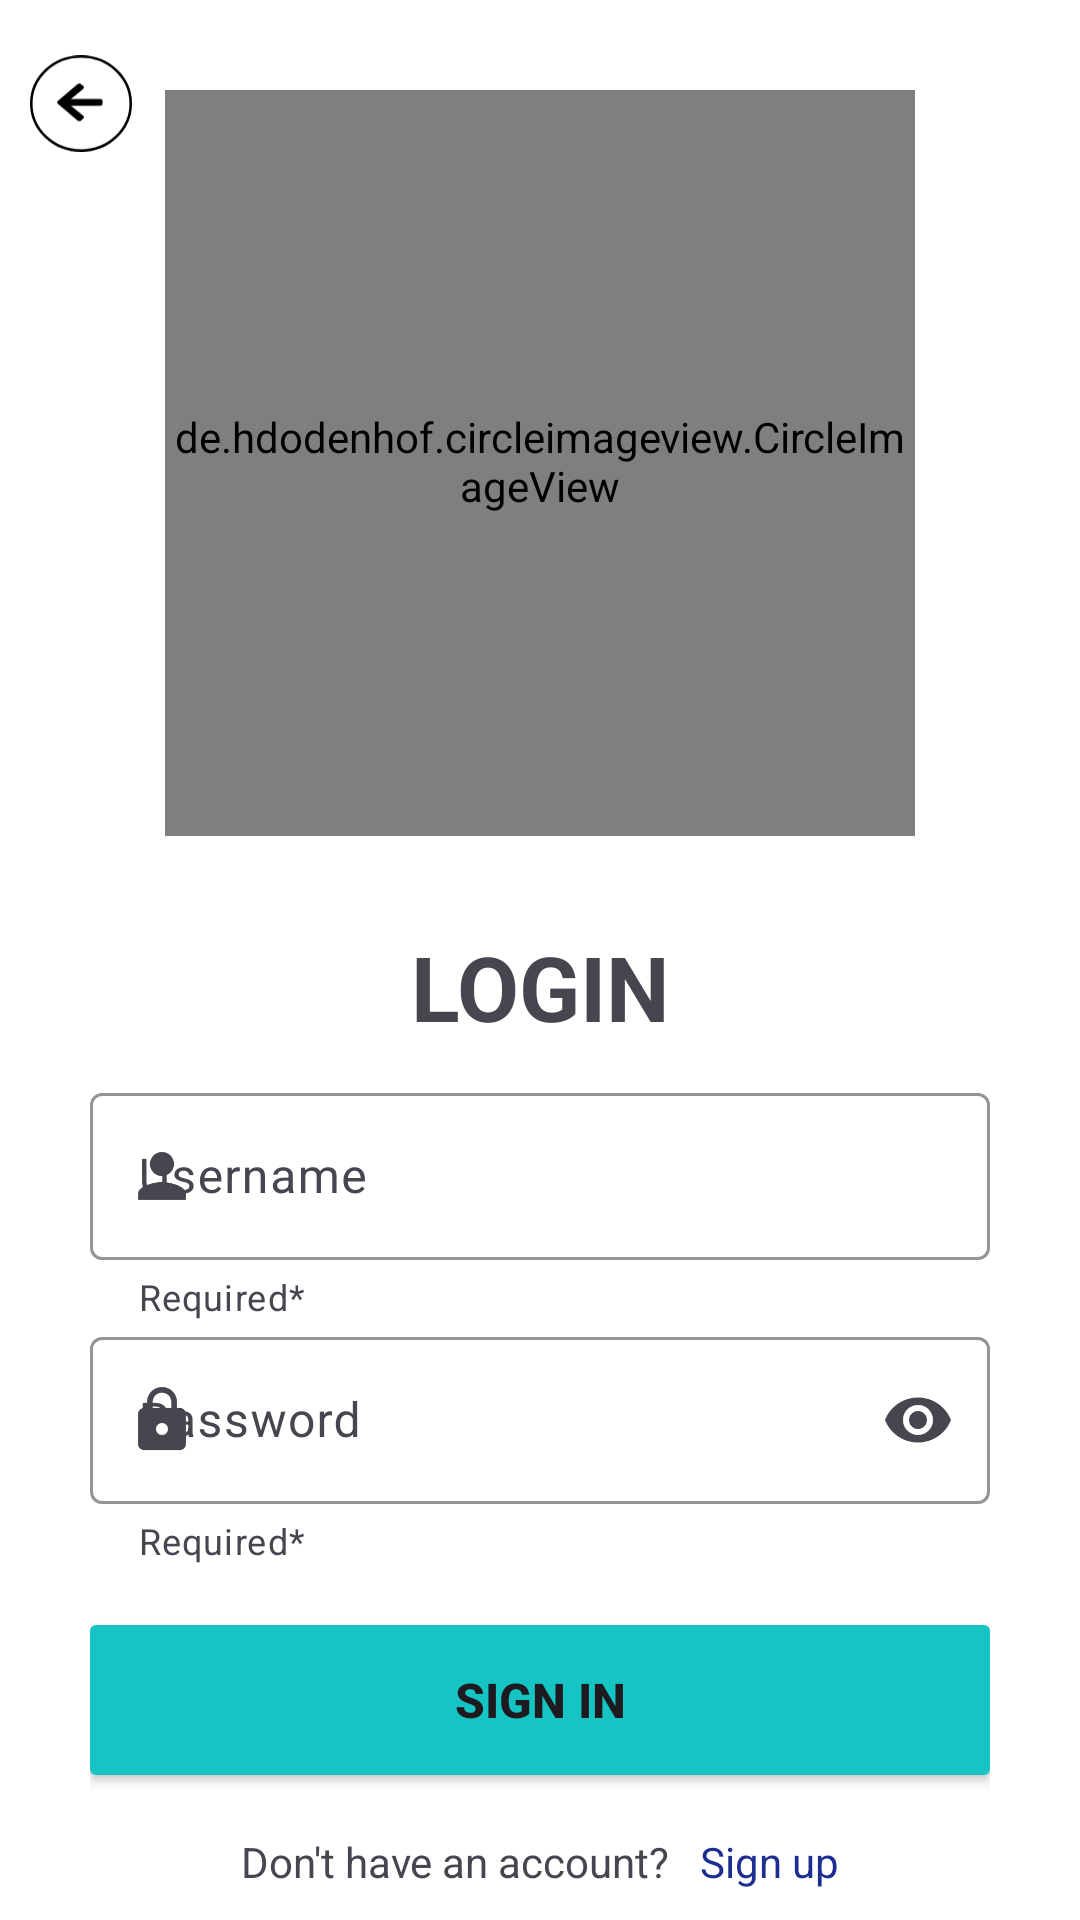

Icons on this 1080x1920 Android screen, each with the point to tap as (x=x, y=y):
back arrow: (x=81, y=103)
